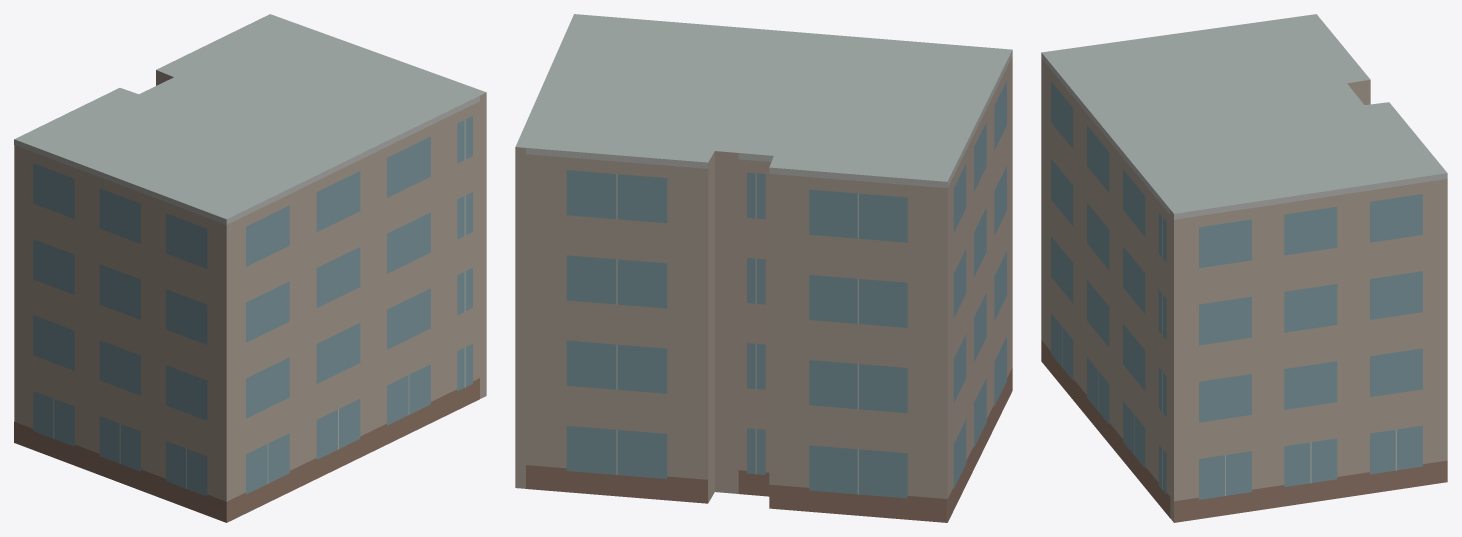
The model's file is survey-upis-32999276.glb.
3 views of the same model, side by side, from view 1: azimuth 30°, elevation 25°; view 2: azimuth 150°, elevation 25°; view 3: azimuth 270°, elevation 25° (orthographic). The views are drawn at different scales.
Parts seen in each view (by area): view 1: survey-upis-32999276.tmp; view 2: survey-upis-32999276.tmp; view 3: survey-upis-32999276.tmp.
Boxes of the visible parts, left/top/right/bottom form: survey-upis-32999276.tmp: left=14, top=14, right=486, bottom=522; survey-upis-32999276.tmp: left=515, top=14, right=1012, bottom=522; survey-upis-32999276.tmp: left=1041, top=14, right=1447, bottom=522.
Size of the model in its own units: 18.19 by 13.1 by 15.61.
